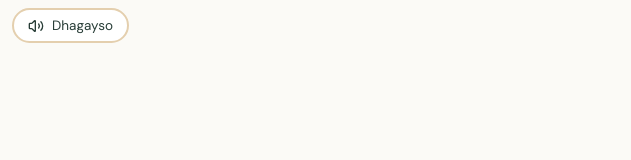
Test case: school activities grade objectively › blocks playback of unapproved recordings and says so honestly
What coordinates should you click on to do the following:
click the button "Dhagayso"
I would click on:
 (70, 26)
Its box is [12, 8, 129, 43].
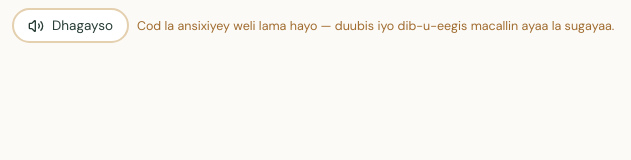
Now the message shows "Cod la ansixiyey weli lama hayo", box [137, 18, 614, 34]
